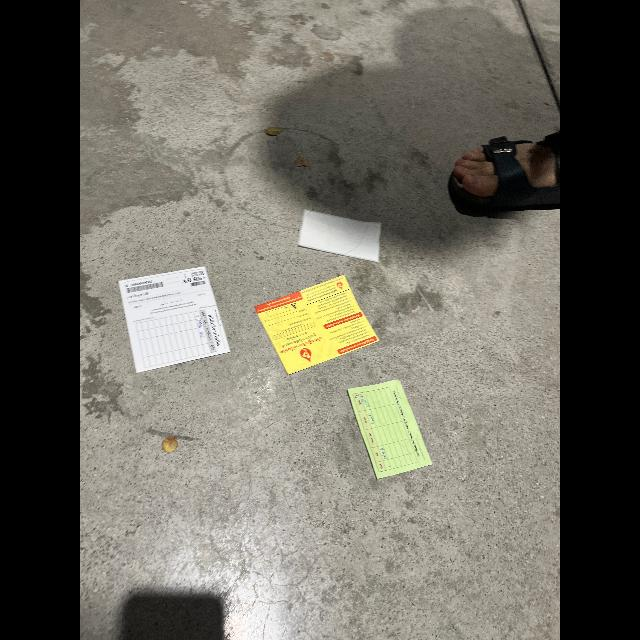scrap_paper: (110, 253, 236, 373), (260, 278, 378, 374), (336, 373, 436, 477), (286, 205, 398, 265)
